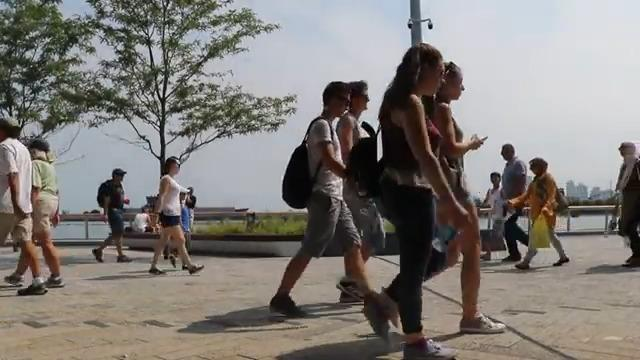no-helmet: (389, 43, 448, 98), (435, 60, 465, 100), (322, 81, 351, 118), (348, 79, 369, 111), (164, 156, 181, 175)
